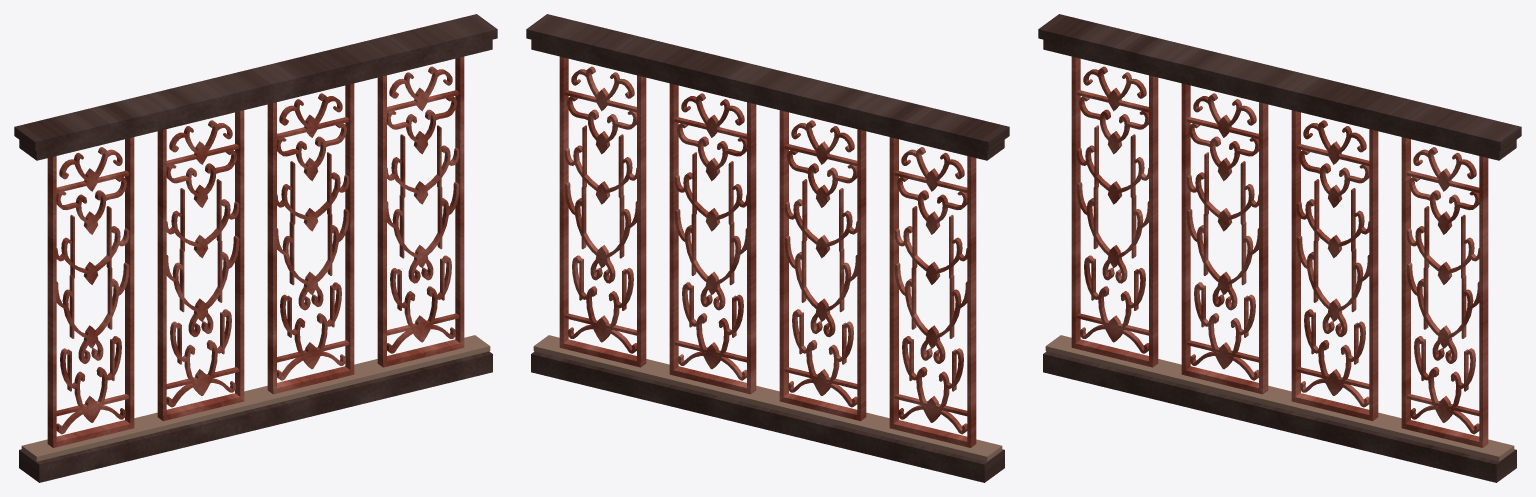
The model's file is zhang-residence-pierced-gallery-rail-far.glb.
3 views of the same model, side by side, from view 1: azimuth 30°, elevation 25°; view 2: azimuth 150°, elevation 25°; view 3: azimuth 330°, elevation 25° (orthographic).
Parts seen in each view (by area): view 1: 三林塘张氏宅二层廊栏的连续红色透花栏板; view 2: 三林塘张氏宅二层廊栏的连续红色透花栏板; view 3: 三林塘张氏宅二层廊栏的连续红色透花栏板.
Part boxes in pixels (x1,y1,x2,y2): 三林塘张氏宅二层廊栏的连续红色透花栏板: (14,14,497,482); 三林塘张氏宅二层廊栏的连续红色透花栏板: (526,14,1009,482); 三林塘张氏宅二层廊栏的连续红色透花栏板: (1038,14,1521,482).
Bounding box in the file's own units: 2.06 × 1.46 × 0.161.
4 materials, 3 textured.
